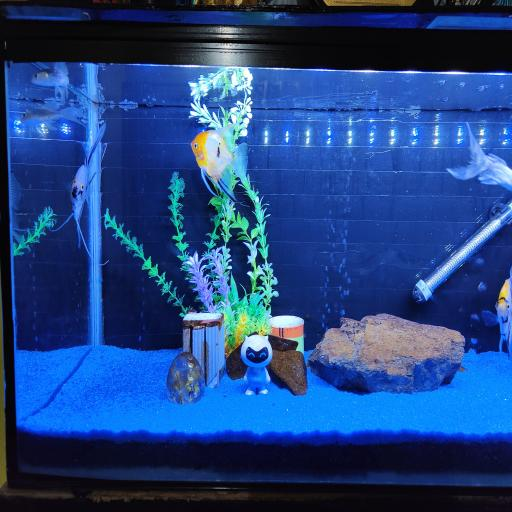Fish: (51, 123, 106, 257), (447, 124, 511, 190), (191, 125, 247, 200), (482, 268, 511, 358), (21, 102, 83, 126), (32, 63, 69, 101)
